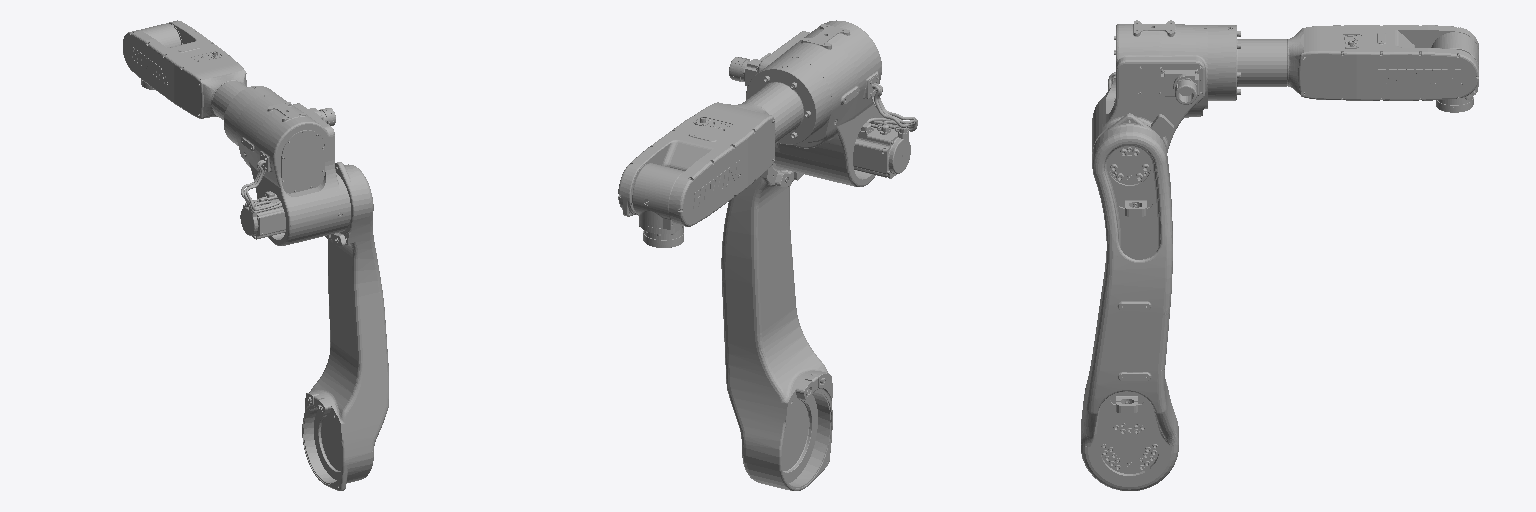
URDF robot description (combine):
<?xml version="1.0" ?>
<!-- =================================================================================== -->
<!-- |    This document was autogenerated by xacro from urdf/combine.xacro             | -->
<!-- |    EDITING THIS FILE BY HAND IS NOT RECOMMENDED                                 | -->
<!-- =================================================================================== -->
<robot xmlns:xacro="http://www.ros.org/wiki/xacro" name="combine">
  <material name="silver">
    <color rgba="0.700 0.700 0.700 1.000"/>
  </material>
  <transmission name="Revolute 1_tran">
    <type>transmission_interface/SimpleTransmission</type>
    <joint name="Revolute 1">
      <hardwareInterface>hardware_interface/EffortJointInterface</hardwareInterface>
    </joint>
    <actuator name="Revolute 1_actr">
      <hardwareInterface>hardware_interface/EffortJointInterface</hardwareInterface>
      <mechanicalReduction>1</mechanicalReduction>
    </actuator>
  </transmission>
  <transmission name="Revolute 2_tran">
    <type>transmission_interface/SimpleTransmission</type>
    <joint name="Revolute 2">
      <hardwareInterface>hardware_interface/EffortJointInterface</hardwareInterface>
    </joint>
    <actuator name="Revolute 2_actr">
      <hardwareInterface>hardware_interface/EffortJointInterface</hardwareInterface>
      <mechanicalReduction>1</mechanicalReduction>
    </actuator>
  </transmission>
  <transmission name="Revolute 3_tran">
    <type>transmission_interface/SimpleTransmission</type>
    <joint name="Revolute 3">
      <hardwareInterface>hardware_interface/EffortJointInterface</hardwareInterface>
    </joint>
    <actuator name="Revolute 3_actr">
      <hardwareInterface>hardware_interface/EffortJointInterface</hardwareInterface>
      <mechanicalReduction>1</mechanicalReduction>
    </actuator>
  </transmission>
  <transmission name="Revolute 4_tran">
    <type>transmission_interface/SimpleTransmission</type>
    <joint name="Revolute 4">
      <hardwareInterface>hardware_interface/EffortJointInterface</hardwareInterface>
    </joint>
    <actuator name="Revolute 4_actr">
      <hardwareInterface>hardware_interface/EffortJointInterface</hardwareInterface>
      <mechanicalReduction>1</mechanicalReduction>
    </actuator>
  </transmission>
  <transmission name="Revolute 5_tran">
    <type>transmission_interface/SimpleTransmission</type>
    <joint name="Revolute 5">
      <hardwareInterface>hardware_interface/EffortJointInterface</hardwareInterface>
    </joint>
    <actuator name="Revolute 5_actr">
      <hardwareInterface>hardware_interface/EffortJointInterface</hardwareInterface>
      <mechanicalReduction>1</mechanicalReduction>
    </actuator>
  </transmission>
  <transmission name="Revolute 6_tran">
    <type>transmission_interface/SimpleTransmission</type>
    <joint name="Revolute 6">
      <hardwareInterface>hardware_interface/EffortJointInterface</hardwareInterface>
    </joint>
    <actuator name="Revolute 6_actr">
      <hardwareInterface>hardware_interface/EffortJointInterface</hardwareInterface>
      <mechanicalReduction>1</mechanicalReduction>
    </actuator>
  </transmission>
  <gazebo>
    <plugin name="control" filename="libgazebo_ros_control.so"/>
  </gazebo>
  <gazebo reference="base_link">
    <material>Gazebo/Silver</material>
    <mu1>0.2</mu1>
    <mu2>0.2</mu2>
    <selfCollide>true</selfCollide>
    <gravity>true</gravity>
  </gazebo>
  <gazebo reference="link1_v1_1">
    <material>Gazebo/Silver</material>
    <mu1>0.2</mu1>
    <mu2>0.2</mu2>
    <selfCollide>true</selfCollide>
  </gazebo>
  <gazebo reference="link2_v1_1">
    <material>Gazebo/Silver</material>
    <mu1>0.2</mu1>
    <mu2>0.2</mu2>
    <selfCollide>true</selfCollide>
  </gazebo>
  <gazebo reference="link3_v1_1">
    <material>Gazebo/Silver</material>
    <mu1>0.2</mu1>
    <mu2>0.2</mu2>
    <selfCollide>true</selfCollide>
  </gazebo>
  <gazebo reference="link4_v1_1">
    <material>Gazebo/Silver</material>
    <mu1>0.2</mu1>
    <mu2>0.2</mu2>
    <selfCollide>true</selfCollide>
  </gazebo>
  <gazebo reference="link4_v1__1__1">
    <material>Gazebo/Silver</material>
    <mu1>0.2</mu1>
    <mu2>0.2</mu2>
    <selfCollide>true</selfCollide>
  </gazebo>
  <gazebo reference="link5_v1_1">
    <material>Gazebo/Silver</material>
    <mu1>0.2</mu1>
    <mu2>0.2</mu2>
    <selfCollide>true</selfCollide>
  </gazebo>
  <link name="base_link">
    <inertial>
      <origin xyz="-0.002313115239762443 -0.03217519897134665 -0.10571346901982188" rpy="0 0 0"/>
      <mass value="12.14290466451666"/>
      <inertia ixx="0.136619" iyy="0.086278" izz="0.156218" ixy="-0.005904" iyz="-0.002075" ixz="-0.000437"/>
    </inertial>
    <visual>
      <origin xyz="0 0 0" rpy="0 0 0"/>
      <geometry>
        <mesh filename="package://combine_description/meshes/base_link.stl" scale="0.001 0.001 0.001"/>
      </geometry>
      <material name="silver"/>
    </visual>
    <collision>
      <origin xyz="0 0 0" rpy="0 0 0"/>
      <geometry>
        <mesh filename="package://combine_description/meshes/base_link.stl" scale="0.001 0.001 0.001"/>
      </geometry>
    </collision>
  </link>
  <link name="link1_v1_1">
    <inertial>
      <origin xyz="-0.029266103585186044 0.03755192198401173 0.16985226963017105" rpy="0 0 0"/>
      <mass value="20.145436969150147"/>
      <inertia ixx="0.368026" iyy="0.284279" izz="0.311928" ixy="0.004008" iyz="-0.08523" ixz="0.031361"/>
    </inertial>
    <visual>
      <origin xyz="-0.0 0.0 -0.0" rpy="0 0 0"/>
      <geometry>
        <mesh filename="package://combine_description/meshes/link1_v1_1.stl" scale="0.001 0.001 0.001"/>
      </geometry>
      <material name="silver"/>
    </visual>
    <collision>
      <origin xyz="-0.0 0.0 -0.0" rpy="0 0 0"/>
      <geometry>
        <mesh filename="package://combine_description/meshes/link1_v1_1.stl" scale="0.001 0.001 0.001"/>
      </geometry>
    </collision>
  </link>
  <link name="link2_v1_1">
    <inertial>
      <origin xyz="0.03810683154100862 0.0032320421439775704 0.24943046350688303" rpy="0 0 0"/>
      <mass value="7.125940242438544"/>
      <inertia ixx="0.372505" iyy="0.360637" izz="0.025003" ixy="-0.00075" iyz="-0.009414" ixz="-0.01418"/>
    </inertial>
    <visual>
      <origin xyz="-0.106 -0.14 -0.257" rpy="0 0 0"/>
      <geometry>
        <mesh filename="package://combine_description/meshes/link2_v1_1.stl" scale="0.001 0.001 0.001"/>
      </geometry>
      <material name="silver"/>
    </visual>
    <collision>
      <origin xyz="-0.106 -0.14 -0.257" rpy="0 0 0"/>
      <geometry>
        <mesh filename="package://combine_description/meshes/link2_v1_1.stl" scale="0.001 0.001 0.001"/>
      </geometry>
    </collision>
  </link>
  <link name="link3_v1_1">
    <inertial>
      <origin xyz="-0.12224406880383384 0.03889539626092681 0.08458784491148919" rpy="0 0 0"/>
      <mass value="8.570278236005578"/>
      <inertia ixx="0.085579" iyy="0.086475" izz="0.054567" ixy="0.00065" iyz="-0.018343" ixz="0.003418"/>
    </inertial>
    <visual>
      <origin xyz="-0.136 -0.14 -0.897" rpy="0 0 0"/>
      <geometry>
        <mesh filename="package://combine_description/meshes/link3_v1_1.stl" scale="0.001 0.001 0.001"/>
      </geometry>
      <material name="silver"/>
    </visual>
    <collision>
      <origin xyz="-0.136 -0.14 -0.897" rpy="0 0 0"/>
      <geometry>
        <mesh filename="package://combine_description/meshes/link3_v1_1.stl" scale="0.001 0.001 0.001"/>
      </geometry>
    </collision>
  </link>
  <link name="link4_v1_1">
    <inertial>
      <origin xyz="-5.363875657564045e-05 0.249134891950744 -1.5080994999250308e-05" rpy="0 0 0"/>
      <mass value="6.4431594647450385"/>
      <inertia ixx="0.153898" iyy="0.016891" izz="0.157745" ixy="0.000101" iyz="1.4e-05" ixz="4e-06"/>
    </inertial>
    <visual>
      <origin xyz="0.0 -0.2895 -1.057" rpy="0 0 0"/>
      <geometry>
        <mesh filename="package://combine_description/meshes/link4_v1_1.stl" scale="0.001 0.001 0.001"/>
      </geometry>
      <material name="silver"/>
    </visual>
    <collision>
      <origin xyz="0.0 -0.2895 -1.057" rpy="0 0 0"/>
      <geometry>
        <mesh filename="package://combine_description/meshes/link4_v1_1.stl" scale="0.001 0.001 0.001"/>
      </geometry>
    </collision>
  </link>
  <link name="link4_v1__1__1">
    <inertial>
      <origin xyz="-0.002506662542221508 6.893772741678461e-05 -0.015422435014587288" rpy="0 0 0"/>
      <mass value="0.9514751636393539"/>
      <inertia ixx="0.001736" iyy="0.001758" izz="0.001172" ixy="2e-06" iyz="2e-06" ixz="2e-05"/>
    </inertial>
    <visual>
      <origin xyz="0.001 -0.8065 -1.057" rpy="0 0 0"/>
      <geometry>
        <mesh filename="package://combine_description/meshes/link4_v1__1__1.stl" scale="0.001 0.001 0.001"/>
      </geometry>
      <material name="silver"/>
    </visual>
    <collision>
      <origin xyz="0.001 -0.8065 -1.057" rpy="0 0 0"/>
      <geometry>
        <mesh filename="package://combine_description/meshes/link4_v1__1__1.stl" scale="0.001 0.001 0.001"/>
      </geometry>
    </collision>
  </link>
  <link name="link5_v1_1">
    <inertial>
      <origin xyz="-9.439797646551215e-06 -3.214032606646544e-05 -0.008310673805171032" rpy="0 0 0"/>
      <mass value="0.04846966924707411"/>
      <inertia ixx="1.7e-05" iyy="1.7e-05" izz="3.3e-05" ixy="0.0" iyz="-0.0" ixz="0.0"/>
    </inertial>
    <visual>
      <origin xyz="0.002 -0.8065 -0.974" rpy="0 0 0"/>
      <geometry>
        <mesh filename="package://combine_description/meshes/link5_v1_1.stl" scale="0.001 0.001 0.001"/>
      </geometry>
      <material name="silver"/>
    </visual>
    <collision>
      <origin xyz="0.002 -0.8065 -0.974" rpy="0 0 0"/>
      <geometry>
        <mesh filename="package://combine_description/meshes/link5_v1_1.stl" scale="0.001 0.001 0.001"/>
      </geometry>
    </collision>
  </link>
  <joint name="Revolute 1" type="continuous">
    <origin xyz="0.0 0.0 0.0" rpy="0 0 0"/>
    <parent link="base_link"/>
    <child link="link1_v1_1"/>
    <axis xyz="0.0 0.0 1.0"/>
  </joint>
  <joint name="Revolute 2" type="continuous">
    <origin xyz="0.106 0.14 0.257" rpy="0 0 0"/>
    <parent link="link1_v1_1"/>
    <child link="link2_v1_1"/>
    <axis xyz="1.0 0.0 0.0"/>
  </joint>
  <joint name="Revolute 3" type="continuous">
    <origin xyz="0.03 0.0 0.64" rpy="0 0 0"/>
    <parent link="link2_v1_1"/>
    <child link="link3_v1_1"/>
    <axis xyz="-1.0 0.0 0.0"/>
  </joint>
  <joint name="Revolute 4" type="continuous">
    <origin xyz="-0.136 0.1495 0.16" rpy="0 0 0"/>
    <parent link="link3_v1_1"/>
    <child link="link4_v1_1"/>
    <axis xyz="0.0 1.0 0.0"/>
  </joint>
  <joint name="Revolute 5" type="continuous">
    <origin xyz="-0.001 0.517 0.0" rpy="0 0 0"/>
    <parent link="link4_v1_1"/>
    <child link="link4_v1__1__1"/>
    <axis xyz="1.0 -0.0 -0.0"/>
  </joint>
  <joint name="Revolute 6" type="continuous">
    <origin xyz="-0.001 0.0 -0.083" rpy="0 0 0"/>
    <parent link="link4_v1__1__1"/>
    <child link="link5_v1_1"/>
    <axis xyz="0.0 0.0 -1.0"/>
  </joint>
</robot>

--- Render facts (derived) ---
The picture shows the robot from 3 angles, left to right: view 1: azimuth 30°, elevation 25°; view 2: azimuth 150°, elevation 25°; view 3: azimuth 270°, elevation 25°; orthographic projection.
Robot: combine — 7 links, 6 joints (6 continuous); root link base_link; default pose: all joints at 0.
Links seen in each view (by area): view 1: link2_v1_1, link3_v1_1, link4_v1_1, link4_v1__1__1; view 2: link2_v1_1, link4_v1_1, link3_v1_1, link4_v1__1__1; view 3: link2_v1_1, link4_v1_1, link3_v1_1, link4_v1__1__1.
Boxes of the visible links, x1,y1,x2,y2 form: link2_v1_1: [302, 162, 388, 490]; link3_v1_1: [236, 94, 350, 245]; link4_v1_1: [123, 20, 281, 145]; link4_v1__1__1: [141, 23, 180, 47]; link2_v1_1: [721, 163, 832, 490]; link4_v1_1: [618, 57, 832, 226]; link3_v1_1: [729, 20, 917, 186]; link4_v1__1__1: [632, 163, 684, 239]; link2_v1_1: [1081, 114, 1178, 490]; link4_v1_1: [1207, 25, 1478, 100]; link3_v1_1: [1092, 20, 1207, 153]; link4_v1__1__1: [1431, 32, 1478, 104].
Size in the robot's own frame: 0.3704 by 0.8185 by 0.982 metres.
5 mesh visuals loaded from 7 distinct referenced files (5 binary STL); not drawn: 2 (reference not matched to a file when rendering).